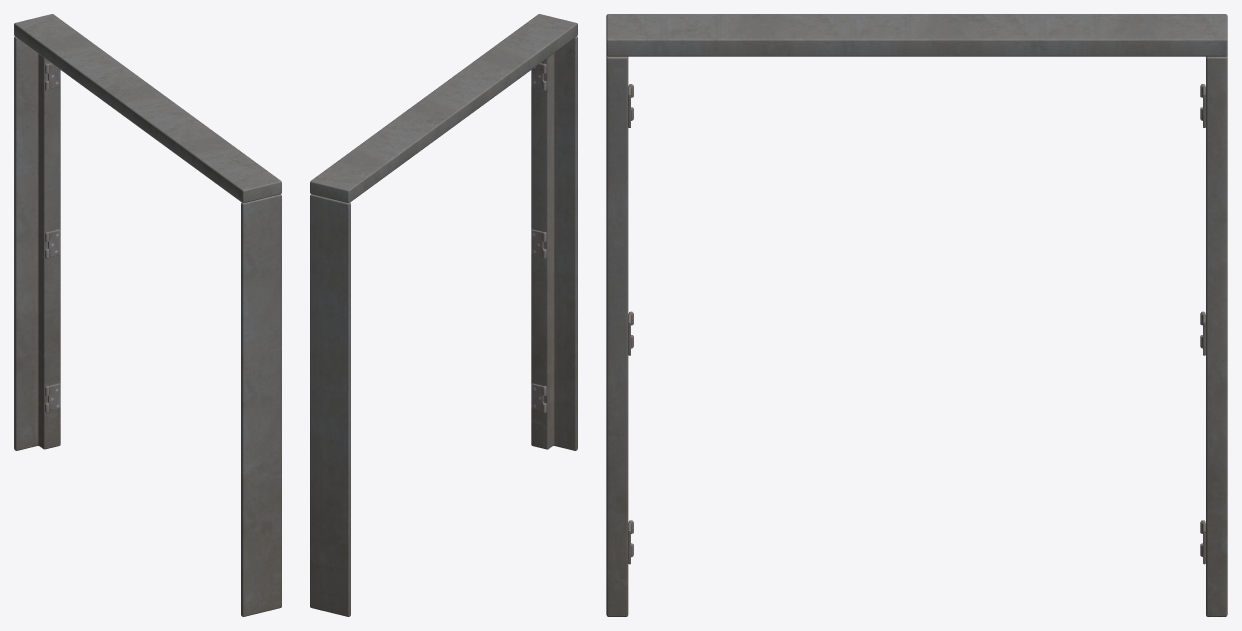
The model's file is SM_Gateway_01.fbx.
The picture shows the model from 3 angles, left to right: view 1: azimuth 30°, elevation 25°; view 2: azimuth 150°, elevation 25°; view 3: azimuth 270°, elevation 25°; orthographic projection. The views are drawn at different scales.
Parts seen in each view (by area): view 1: SM_Gateway_01_LOD0; view 2: SM_Gateway_01_LOD0; view 3: SM_Gateway_01_LOD0.
Boxes of the visible parts, box(x1,y1,x2,y2) form: SM_Gateway_01_LOD0: box(14, 14, 281, 616); SM_Gateway_01_LOD0: box(310, 14, 577, 616); SM_Gateway_01_LOD0: box(606, 14, 1227, 616).
Bounding box in the file's own units: 22.01 × 221 × 227.
